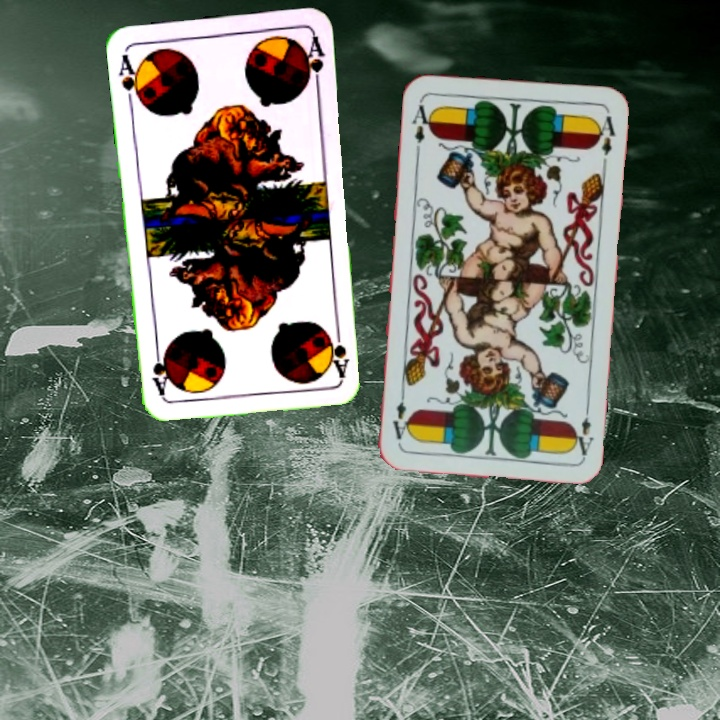EA: (568, 400, 597, 459), (407, 96, 435, 156)
SA: (115, 50, 145, 108), (326, 320, 352, 380)
